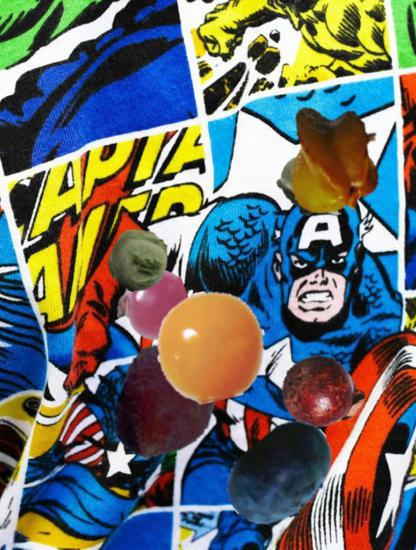Blueberry: (223, 416, 342, 535)
Carambula: (278, 103, 389, 214)
Kohlrabi: (277, 147, 354, 224), (107, 229, 171, 293)
Mangostan: (279, 352, 364, 437)
Physalis: (156, 291, 266, 401)
Redcurrant: (116, 269, 190, 343)
Salak: (106, 345, 224, 463)
